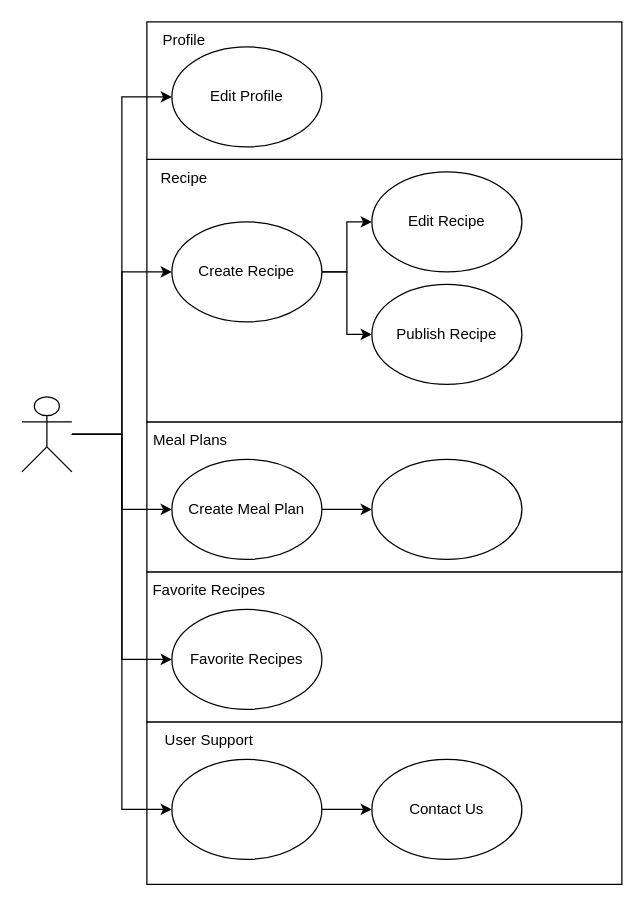
This 644x906 diagram has some shape labels left out. The centre of each missing label's shape, as x and y in pixels:
"Actor" goes at point (46, 434).
"Create Support Ticket" goes at point (246, 808).
"Edit Meal Plan" goes at point (446, 508).
